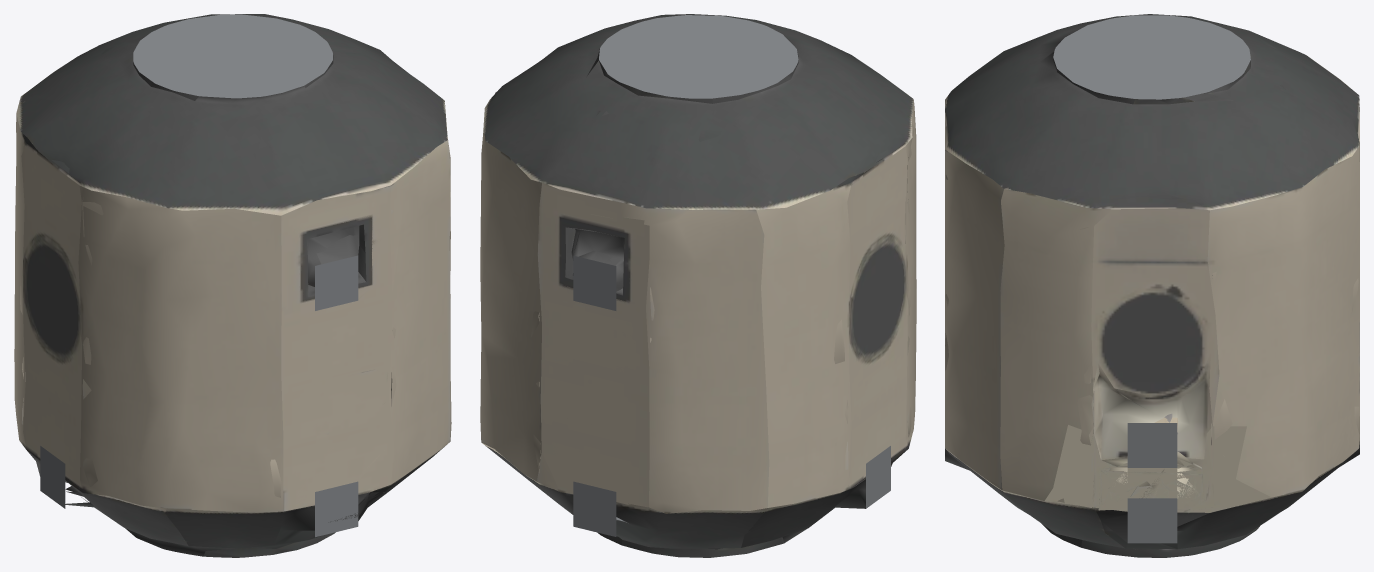
Rendered from command_hub.glb.
The picture shows the model from 3 angles, left to right: view 1: azimuth 30°, elevation 25°; view 2: azimuth 150°, elevation 25°; view 3: azimuth 270°, elevation 25°; orthographic projection.
Visible parts, largest first — view 1: part; view 2: part; view 3: part.
Boxes of the visible parts, x1,y1,x2,y2 form: part: (14, 14, 451, 557); part: (480, 14, 916, 557); part: (945, 14, 1359, 557).
Bounding box in the file's own units: 5 × 6 × 5.
Materials: 2 (1 with a texture image).
